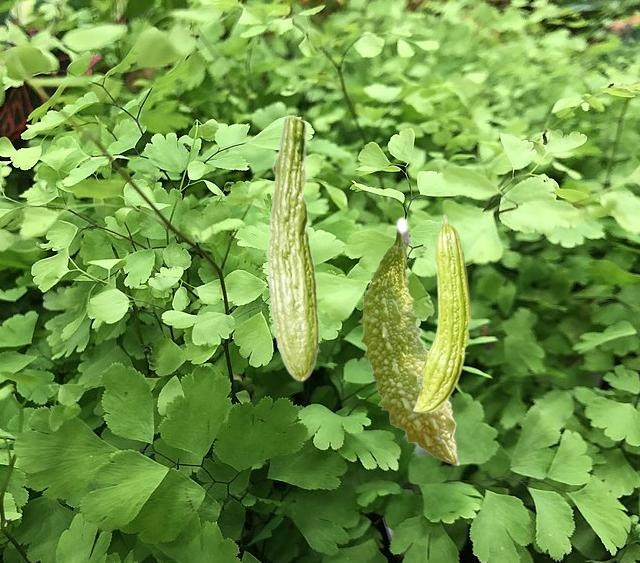ampalaya: (356, 215, 460, 466), (266, 114, 321, 382), (412, 214, 472, 415)
